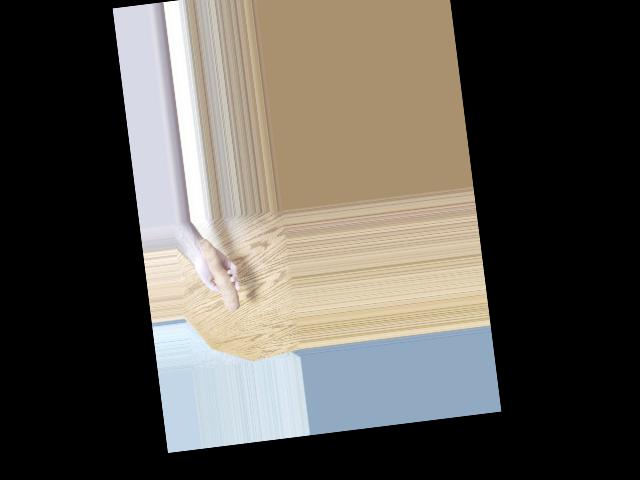sweet_potato: (204, 243, 245, 324)
